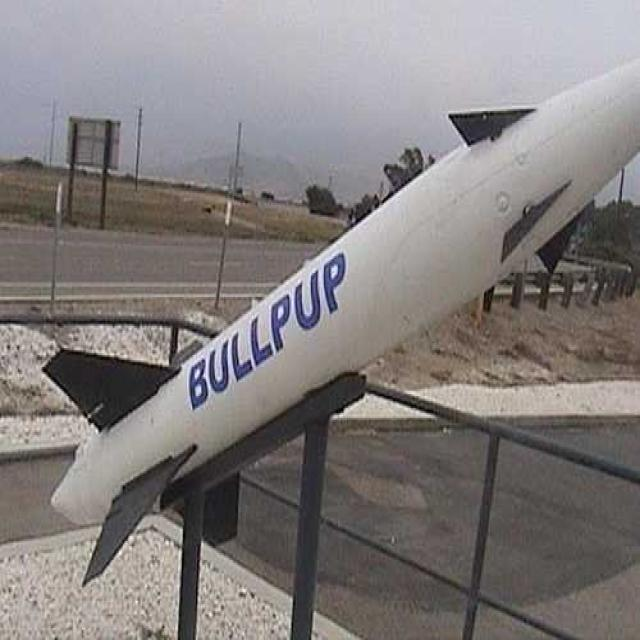missile: (41, 53, 636, 586)
